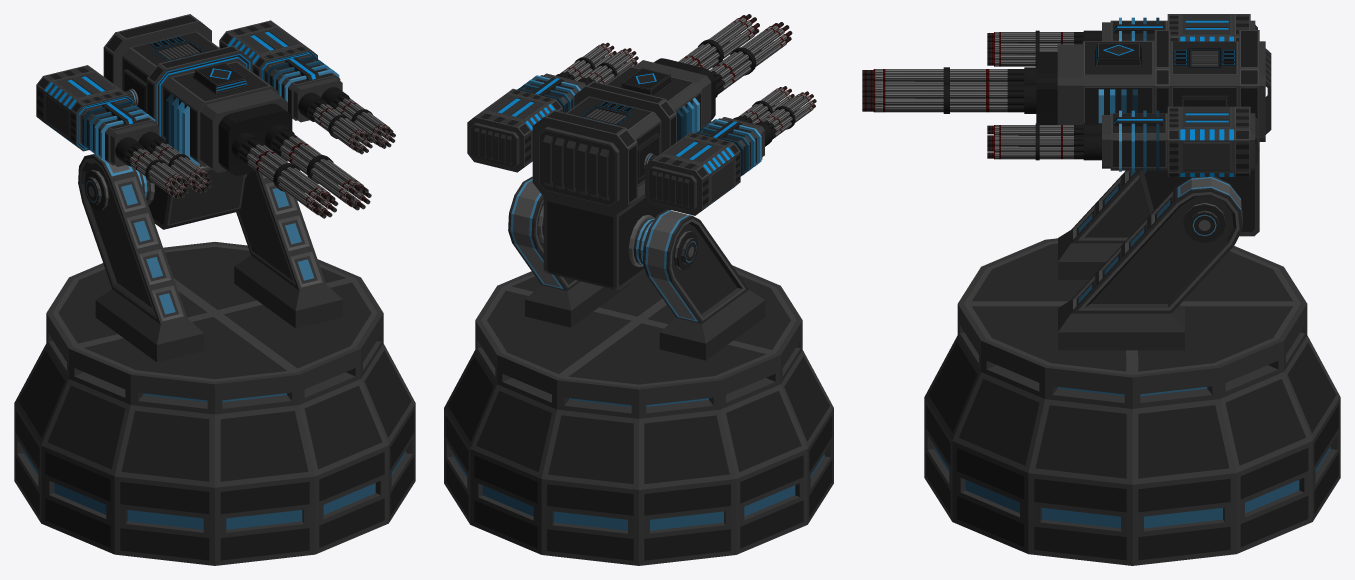
Rendered from MGT1.FBX.
3 renders of one model, left to right at view 1: azimuth 30°, elevation 25°; view 2: azimuth 150°, elevation 25°; view 3: azimuth 270°, elevation 25°, orthographic. The views are drawn at different scales.
Parts seen in each view (by area): view 1: PTMG, MGT1, NTMG, MGT006, MGT005; view 2: PTMG, MGT1, NTMG, MGT006, MGT005; view 3: PTMG, MGT1, NTMG, MGT005, MGT006.
Part boxes in pixels (left/top/right/bottom): PTMG: left=14, top=242, right=415, bottom=565; MGT1: left=103, top=14, right=371, bottom=229; NTMG: left=78, top=154, right=342, bottom=362; MGT006: left=36, top=65, right=212, bottom=198; MGT005: left=219, top=20, right=395, bottom=154; PTMG: left=444, top=265, right=833, bottom=565; MGT1: left=532, top=14, right=792, bottom=290; NTMG: left=508, top=176, right=765, bottom=360; MGT006: left=644, top=86, right=816, bottom=215; MGT005: left=467, top=42, right=638, bottom=172; PTMG: left=924, top=238, right=1340, bottom=565; MGT1: left=862, top=30, right=1271, bottom=236; NTMG: left=1058, top=170, right=1242, bottom=350; MGT005: left=987, top=106, right=1257, bottom=176; MGT006: left=987, top=14, right=1257, bottom=66.
Size of the model in its own units: 782 by 888 by 898.
